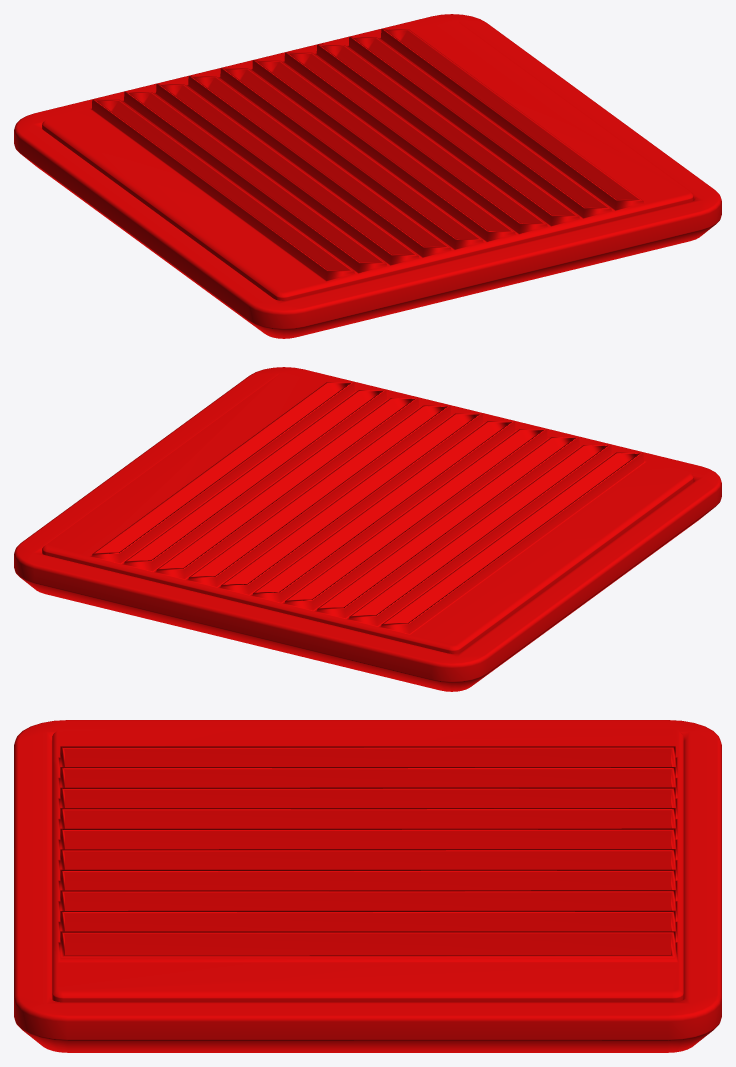
Rendered from Equipment_37.fbx.
The picture shows the model from 3 angles, top to bottom: view 1: azimuth 30°, elevation 25°; view 2: azimuth 150°, elevation 25°; view 3: azimuth 270°, elevation 25°; orthographic projection. The views are drawn at different scales.
Parts seen in each view (by area): view 1: L21:pCube111; view 2: L21:pCube111; view 3: L21:pCube111.
Boxes of the visible parts, box(x1,y1,x2,y2) form: L21:pCube111: box(14, 14, 721, 338); L21:pCube111: box(14, 367, 721, 691); L21:pCube111: box(14, 720, 721, 1052).
Bounding box in the file's own units: 124 × 12.87 × 124.
